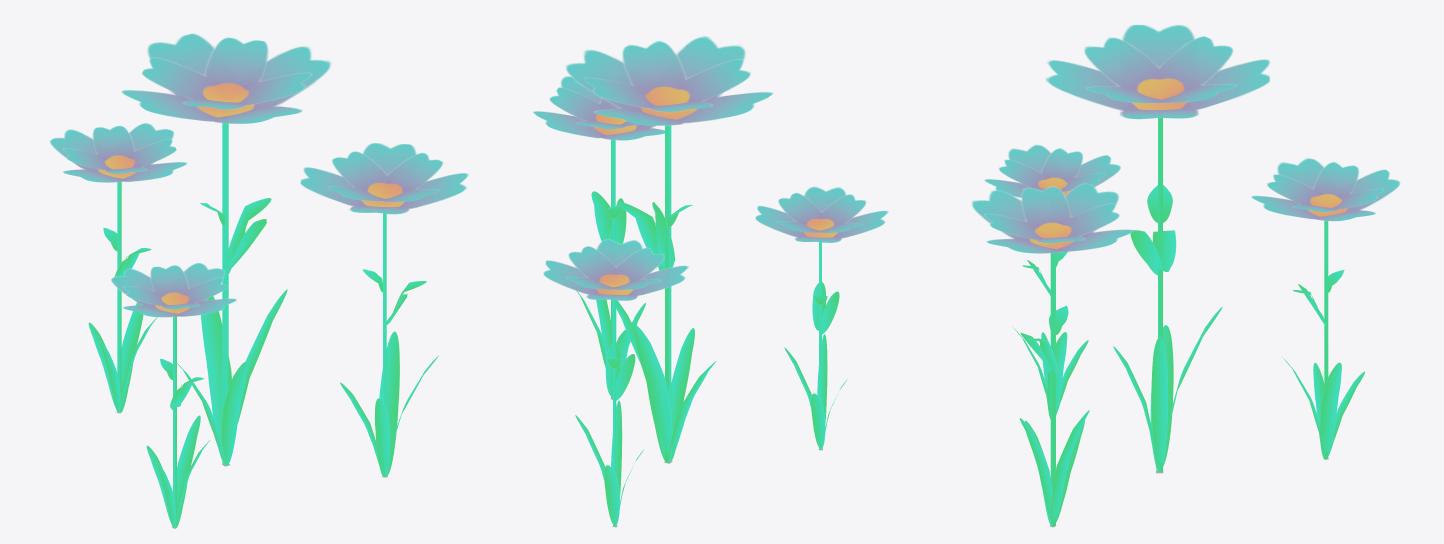
Rendered from Flower_n_08.glb.
The picture shows the model from 3 angles, left to right: view 1: azimuth 30°, elevation 25°; view 2: azimuth 150°, elevation 25°; view 3: azimuth 270°, elevation 25°; orthographic projection. The views are drawn at different scales.
Parts seen in each view (by area): view 1: polySurface403; view 2: polySurface403; view 3: polySurface403.
Part boxes in pixels (x1,y1,x2,y2): polySurface403: [49, 33, 469, 528]; polySurface403: [533, 35, 888, 527]; polySurface403: [971, 24, 1400, 527].
Bounding box in the file's own units: 0.6541 × 0.6309 × 0.709.
Materials: 2 (1 with a texture image).
